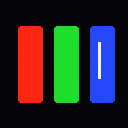4 line_v: (98, 42, 100, 78)
